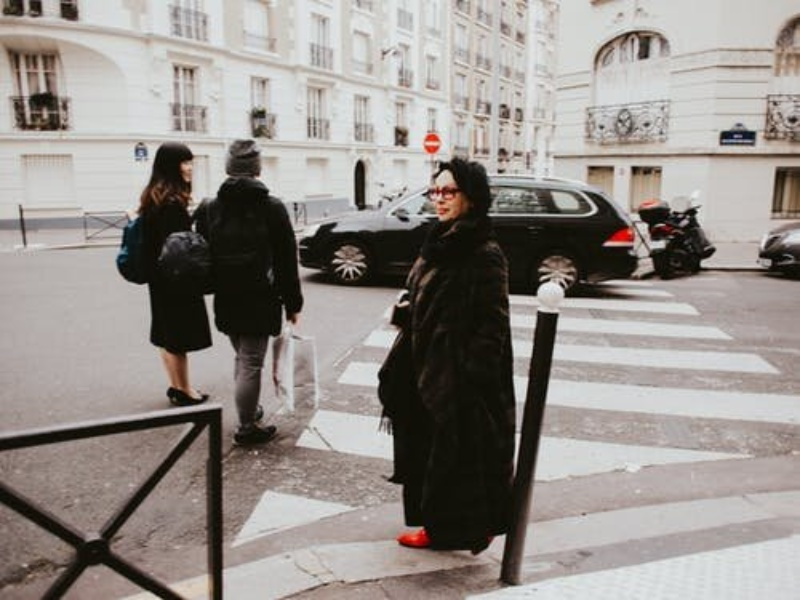zebra cross: (232, 281, 800, 552)
